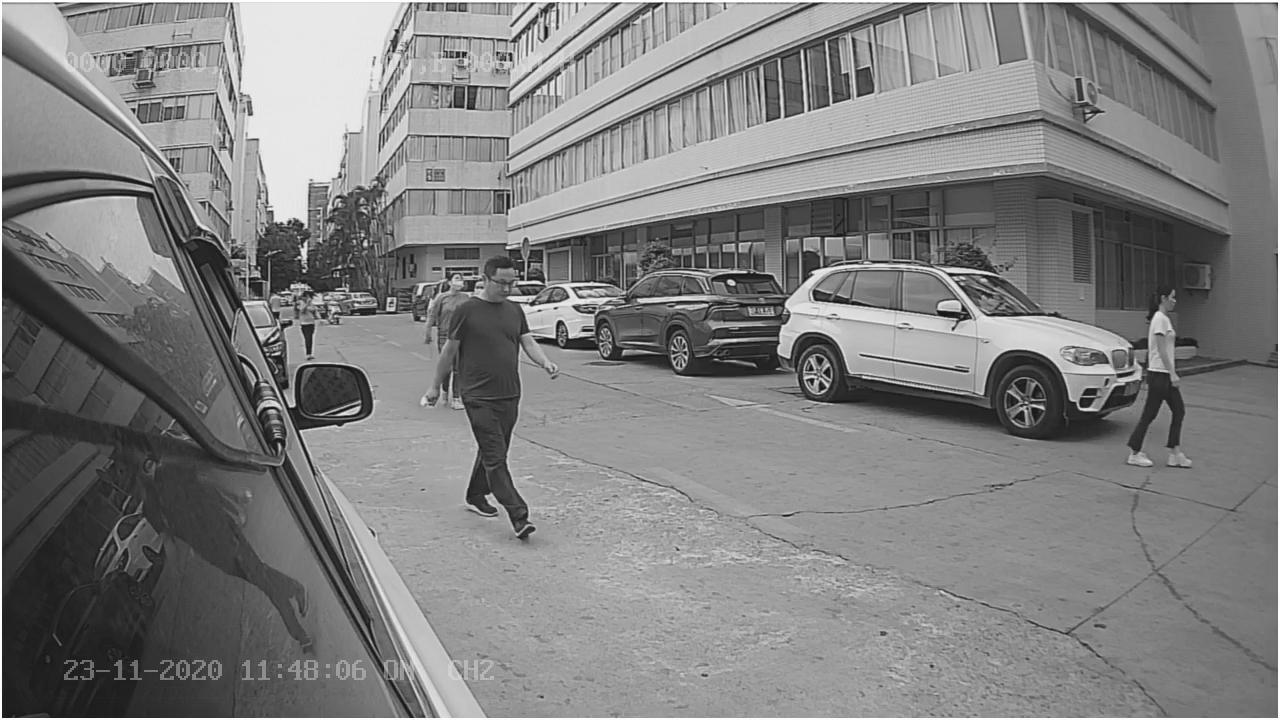person: (426, 242, 566, 537), (1125, 274, 1195, 469)
